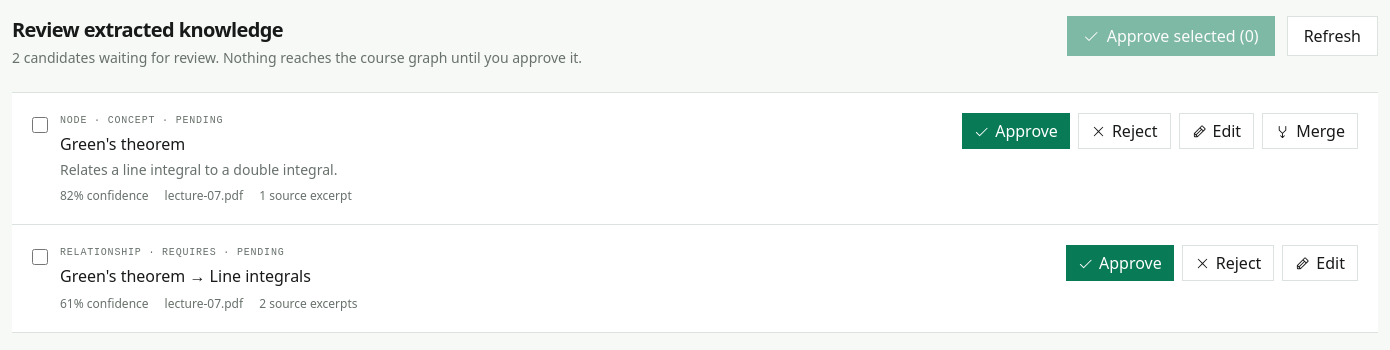
Test: GraphReview › approves selected candidates in bulk and surfaces partial failures
This screenshot has width=1390, height=350.
Expected: the button "Approve selected (0)" is disabled, [1067, 16, 1275, 56]
Click the checkbox named "Select Green's theorem".
click(40, 125)  # box [32, 117, 48, 133]
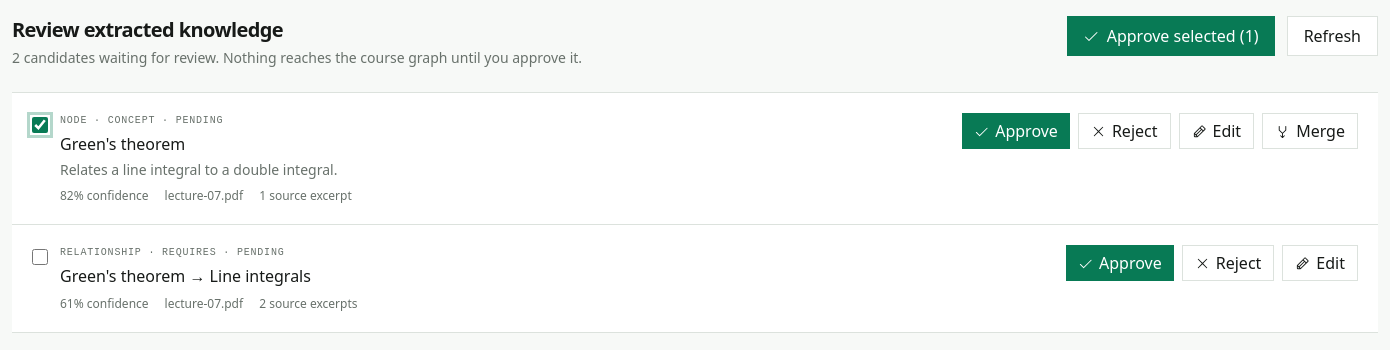
Click the checkbox named "Select Green's theorem → Line integrals".
click(40, 257)  # box [32, 249, 48, 265]
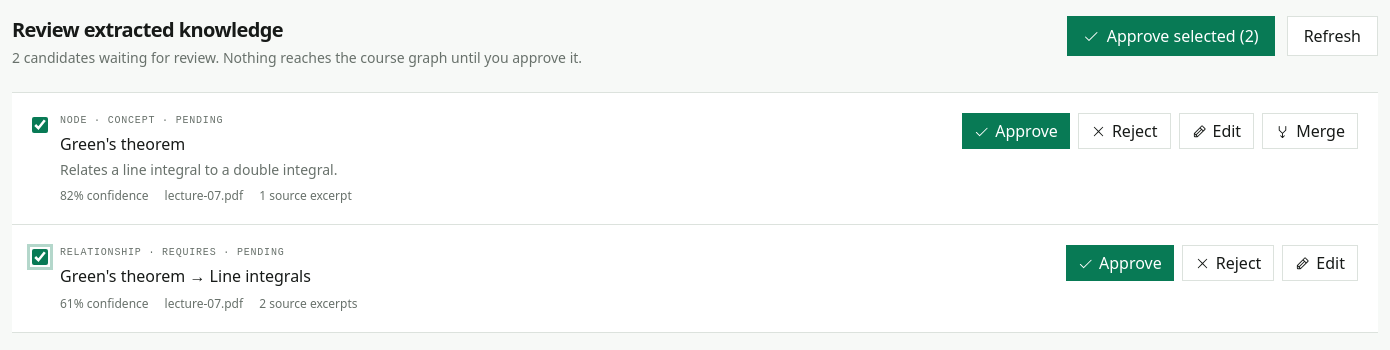
Click the button "Approve selected (2)".
click(1171, 36)  # box [1067, 16, 1275, 56]
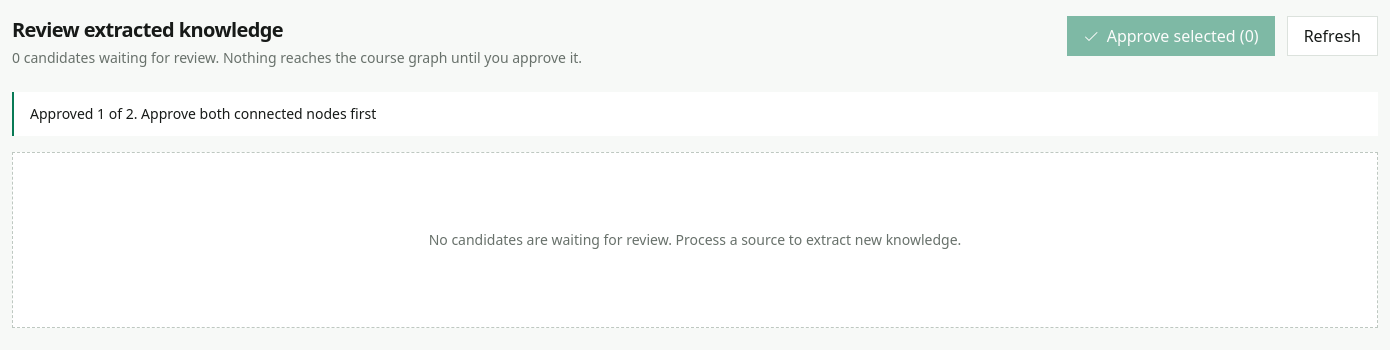
Expected: the message reads "Approved 1 of 2. Approve both connected nodes first", [30, 104, 376, 123]
